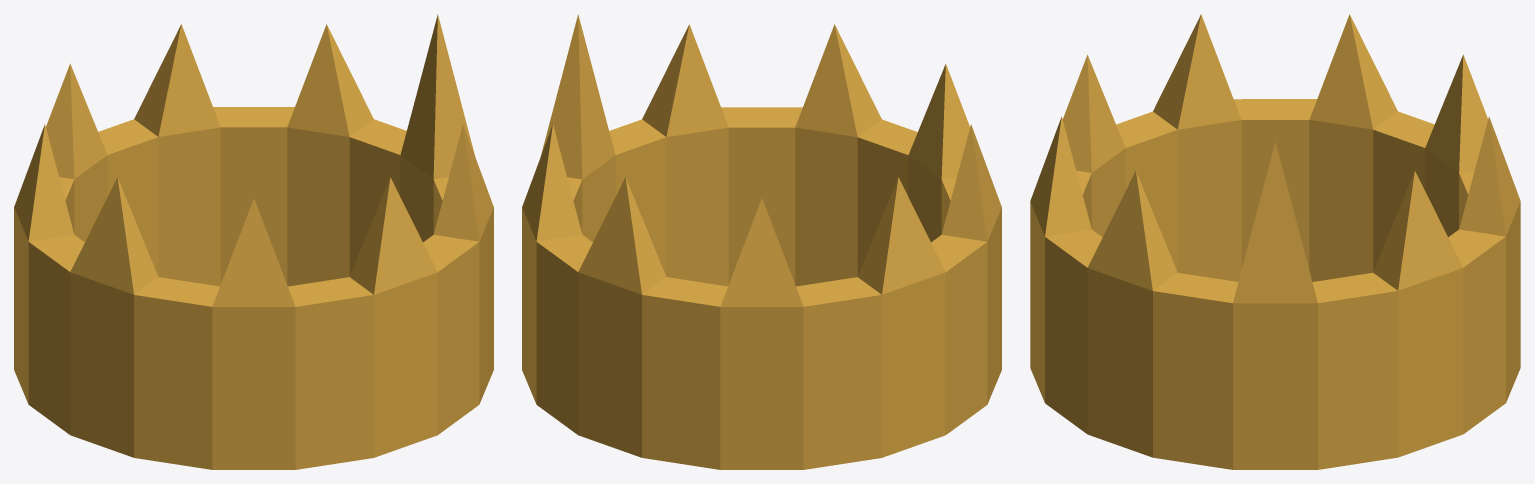
The model's file is crownthin.fbx.
3 views of the same model, side by side, from view 1: azimuth 30°, elevation 25°; view 2: azimuth 150°, elevation 25°; view 3: azimuth 270°, elevation 25° (orthographic). The views are drawn at different scales.
Visible parts, largest first — view 1: Cilindro_002; view 2: Cilindro_002; view 3: Cilindro_002.
Part boxes in pixels (bbox=[...]): Cilindro_002: bbox=[14, 14, 493, 469]; Cilindro_002: bbox=[522, 14, 1001, 469]; Cilindro_002: bbox=[1030, 14, 1520, 469].
Size of the model in its own units: 162 by 118 by 165.
1 material, 1 textured.
